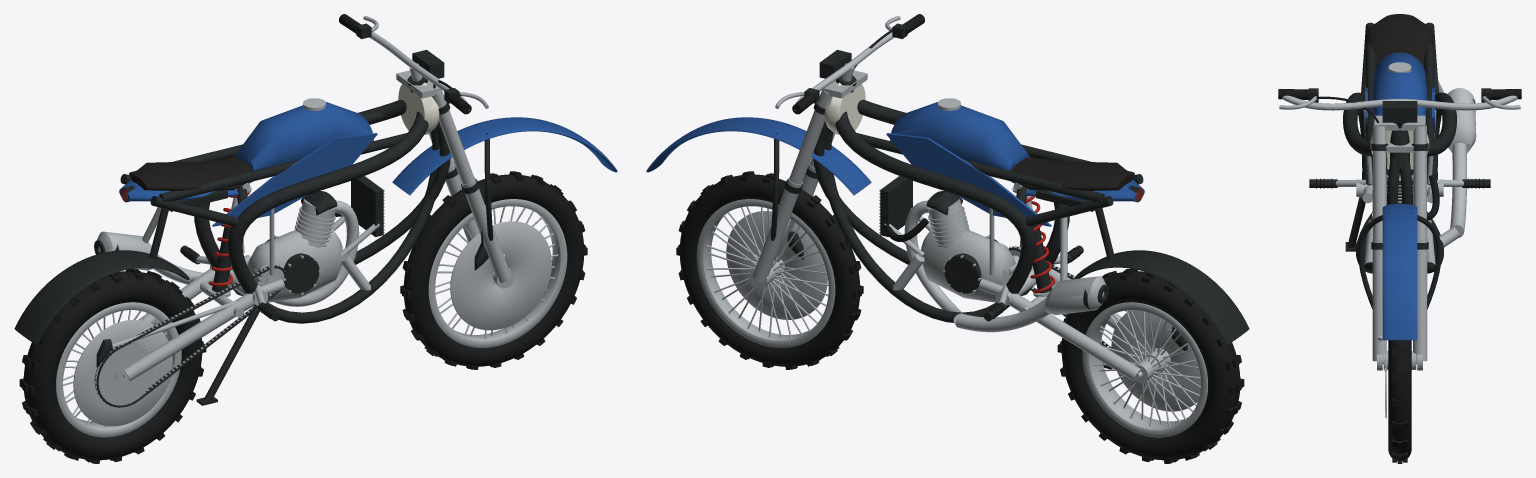
The model's file is dirt-motorcycle.glb.
The picture shows the model from 3 angles, left to right: view 1: azimuth 30°, elevation 25°; view 2: azimuth 150°, elevation 25°; view 3: azimuth 270°, elevation 25°; orthographic projection.
Parts seen in each view (by area): view 1: Rear rounded tyre carcass, Front rounded tyre carcass, Front finite brake rotor, Original sculpted fuel tank, Main triangulated frame -1, Rear finite brake rotor, Finite rear wheel arch, Front turned rim and bead seats, Finite formed front mudguard, Dirt bike shaped side panel -1, Rear turned rim and bead seats, Closed contoured rider and pillion saddle (+22 smaller); view 2: Rear rounded tyre carcass, Front rounded tyre carcass, Front finite brake rotor, Original sculpted fuel tank, Rear turned rim and bead seats, Main triangulated frame 1, Front turned rim and bead seats, Finite rear wheel arch, Rear finite brake rotor, Finite formed front mudguard, Cast engine crankcase, Dirt bike shaped side panel 1 (+21 smaller); view 3: Finite formed front mudguard, Closed contoured rider and pillion saddle, Front rounded tyre carcass, Original sculpted fuel tank, Bent continuous handlebar, Fork upper stanchion 1, Fork lower slider 1, Fork upper stanchion -1, Fork lower slider -1, Main triangulated frame -1, Main triangulated frame 1, Exhaust collector and connecting pipe (+16 smaller).
Part boxes in pixels (<box>): Rear rounded tyre carcass: <box>23,271,202,460</box>; Front rounded tyre carcass: <box>403,174,583,366</box>; Front finite brake rotor: <box>450,221,551,330</box>; Original sculpted fuel tank: <box>234,102,373,170</box>; Main triangulated frame -1: <box>227,111,428,293</box>; Rear finite brake rotor: <box>73,320,172,426</box>; Finite rear wheel arch: <box>14,250,189,344</box>; Front turned rim and bead seats: <box>428,199,567,347</box>; Finite formed front mudguard: <box>392,117,617,195</box>; Dirt bike shaped side panel -1: <box>212,133,377,226</box>; Rear turned rim and bead seats: <box>56,302,181,437</box>; Closed contoured rider and pillion saddle: <box>130,157,253,190</box>; Rear rounded tyre carcass: <box>1061,271,1240,460</box>; Front rounded tyre carcass: <box>680,174,860,366</box>; Front finite brake rotor: <box>726,211,827,319</box>; Original sculpted fuel tank: <box>890,102,1029,170</box>; Rear turned rim and bead seats: <box>1082,302,1207,437</box>; Main triangulated frame 1: <box>835,111,1036,293</box>; Front turned rim and bead seats: <box>696,199,835,347</box>; Finite rear wheel arch: <box>1074,250,1249,344</box>; Rear finite brake rotor: <box>1111,310,1200,411</box>; Finite formed front mudguard: <box>646,117,871,195</box>; Cast engine crankcase: <box>921,228,1015,302</box>; Dirt bike shaped side panel 1: <box>886,133,1051,226</box>; Finite formed front mudguard: <box>1382,203,1417,340</box>; Closed contoured rider and pillion saddle: <box>1367,14,1432,67</box>; Front rounded tyre carcass: <box>1388,340,1411,461</box>; Original sculpted fuel tank: <box>1372,52,1427,116</box>; Bent continuous handlebar: <box>1278,95,1521,110</box>; Fork upper stanchion 1: <box>1413,125,1426,239</box>; Fork lower slider 1: <box>1413,238,1427,361</box>; Fork upper stanchion -1: <box>1373,125,1386,239</box>; Fork lower slider -1: <box>1372,238,1386,361</box>; Main triangulated frame -1: <box>1343,92,1390,185</box>; Main triangulated frame 1: <box>1427,92,1456,185</box>; Exhaust collector and connecting pipe: <box>1450,143,1466,237</box>.
Bounding box in the file's own units: 2.28 × 1.22 × 0.8344.
9 materials, 9 textured.
